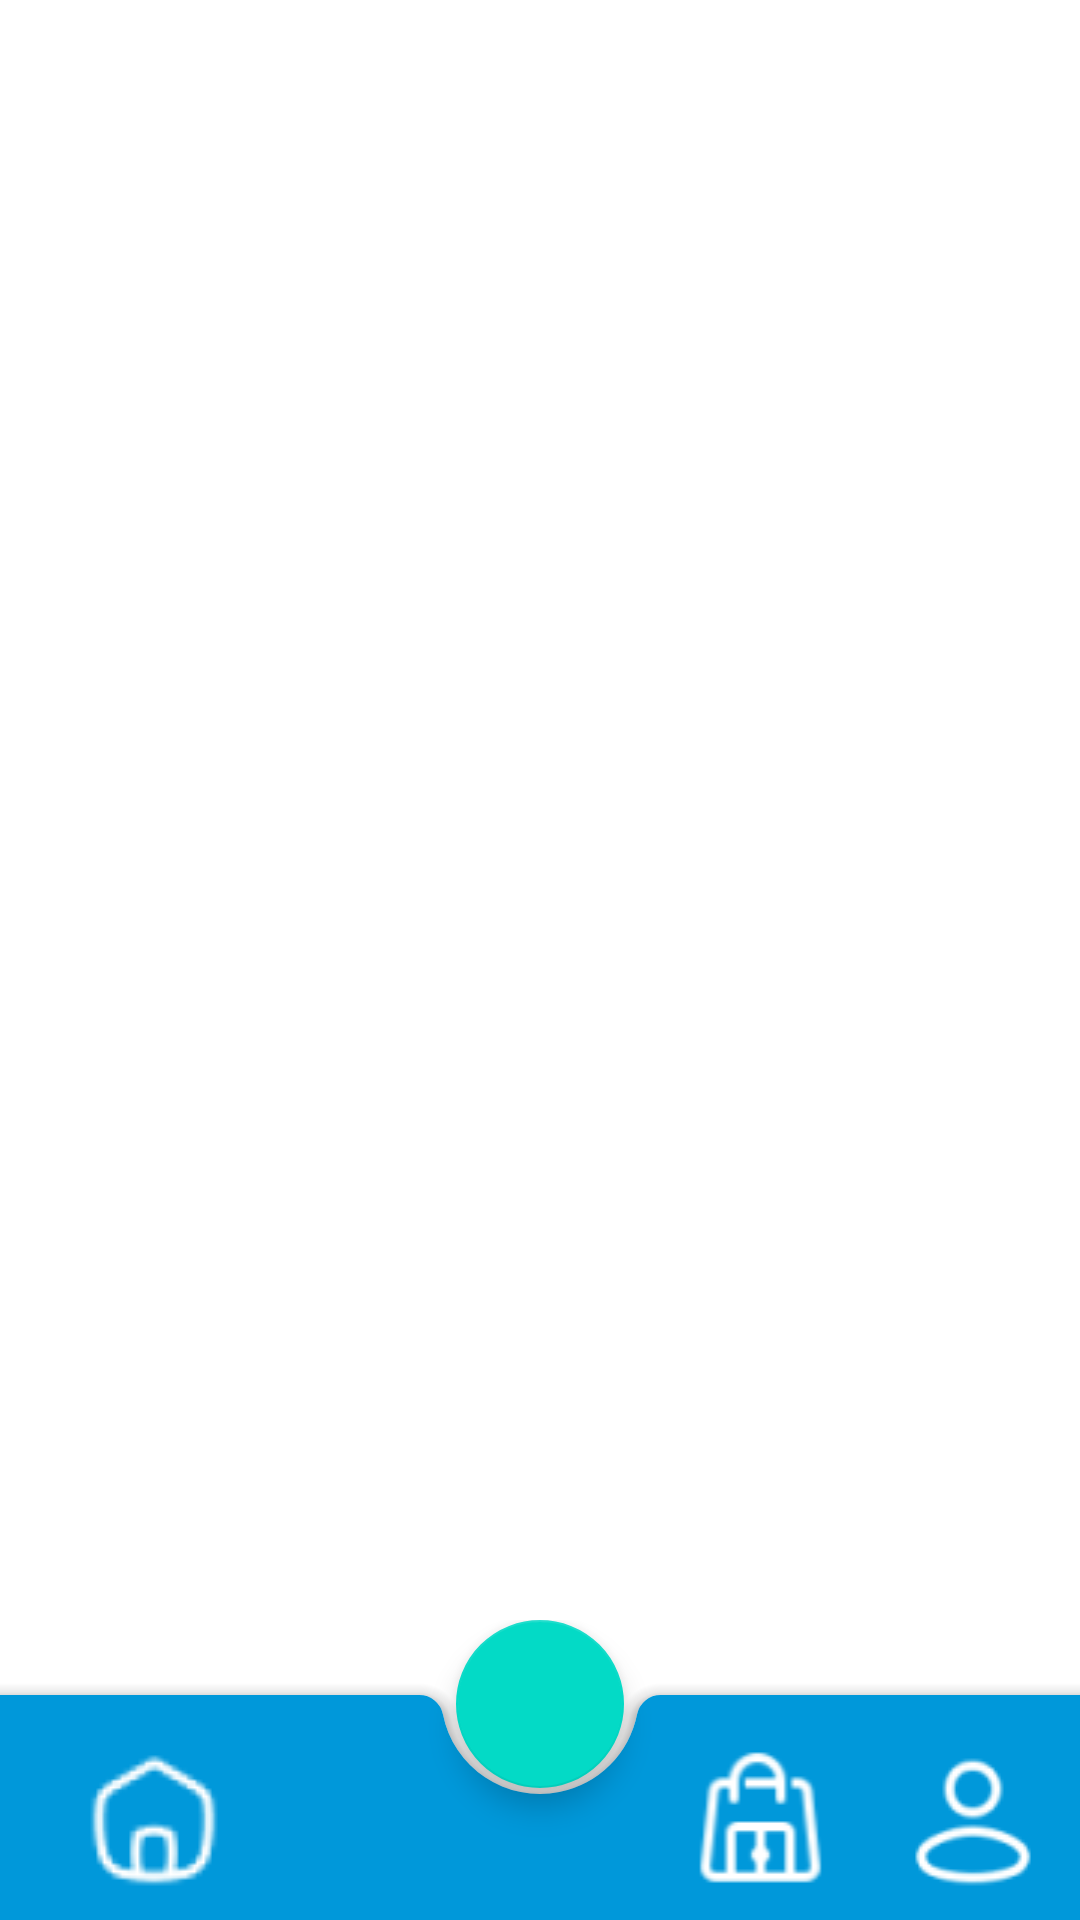

Locate icon controls on the screen. Image size 1080 x 1920, boxes as (left=x1, top=y1, right=x2, bottom=y2).
home: (left=91, top=1755, right=217, bottom=1885)
shop: (left=699, top=1752, right=822, bottom=1883)
user: (left=915, top=1758, right=1031, bottom=1885)
